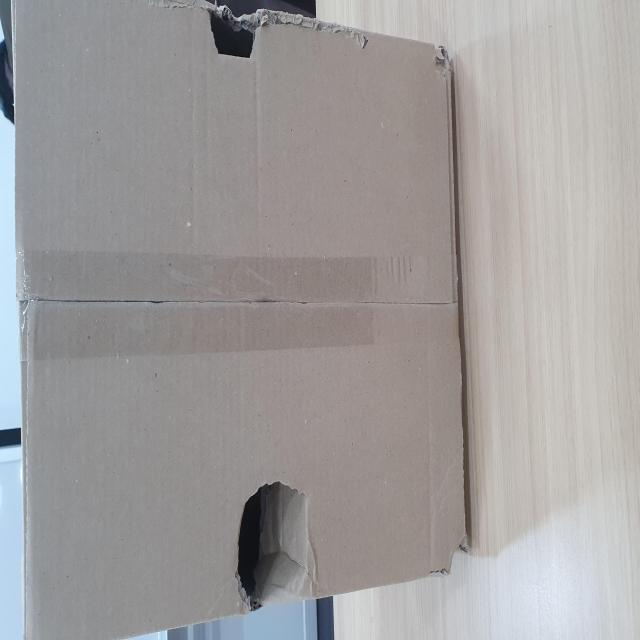damaged: (15, 412, 94, 545), (320, 350, 360, 475)
